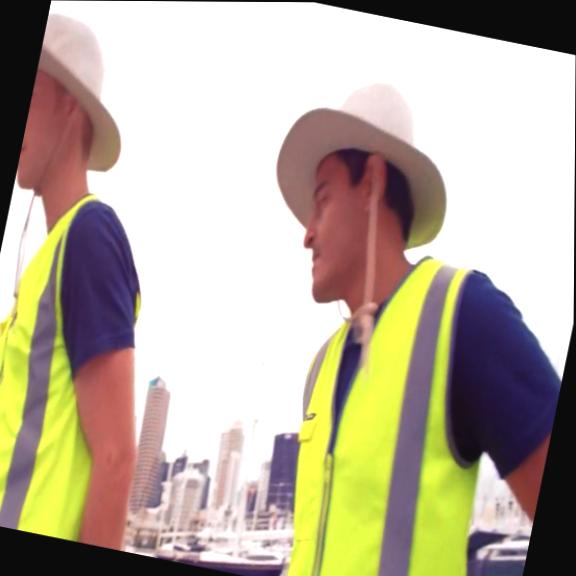safety_vest: (262, 231, 539, 576), (0, 179, 152, 543)
